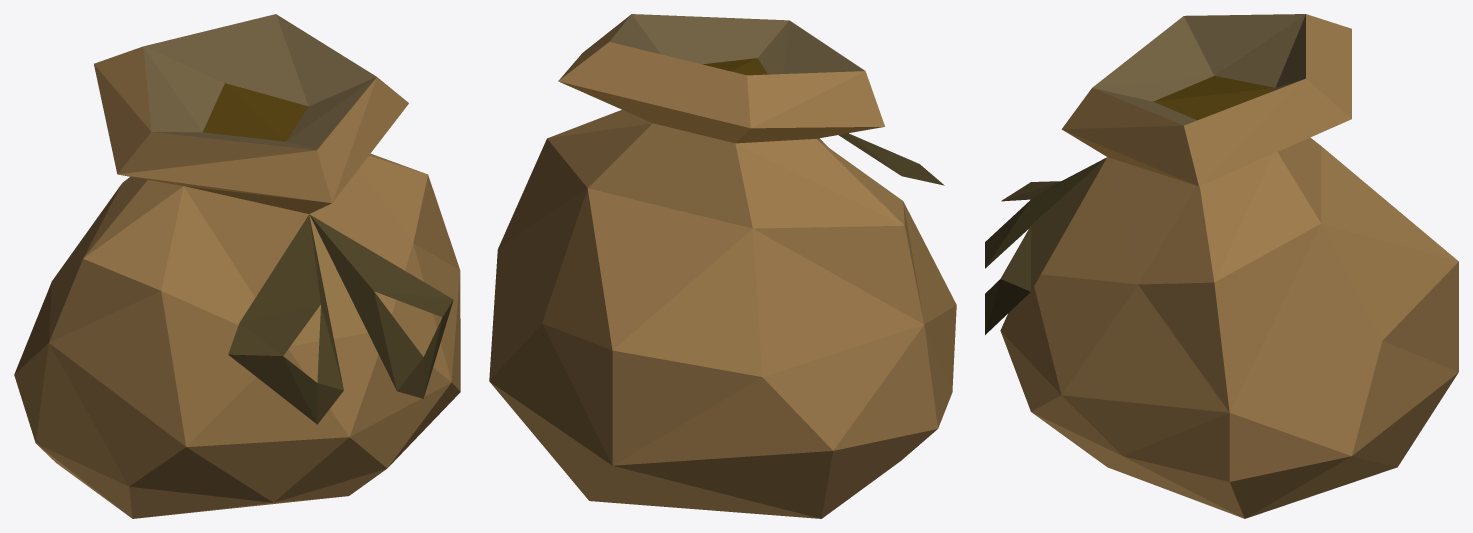
File: meat-pouch.gltf
3 renders of one model, left to right at view 1: azimuth 30°, elevation 25°; view 2: azimuth 150°, elevation 25°; view 3: azimuth 270°, elevation 25°, orthographic. The views are drawn at different scales.
Size of the model in its own units: 32 by 29 by 31.
1 material, 1 textured.
